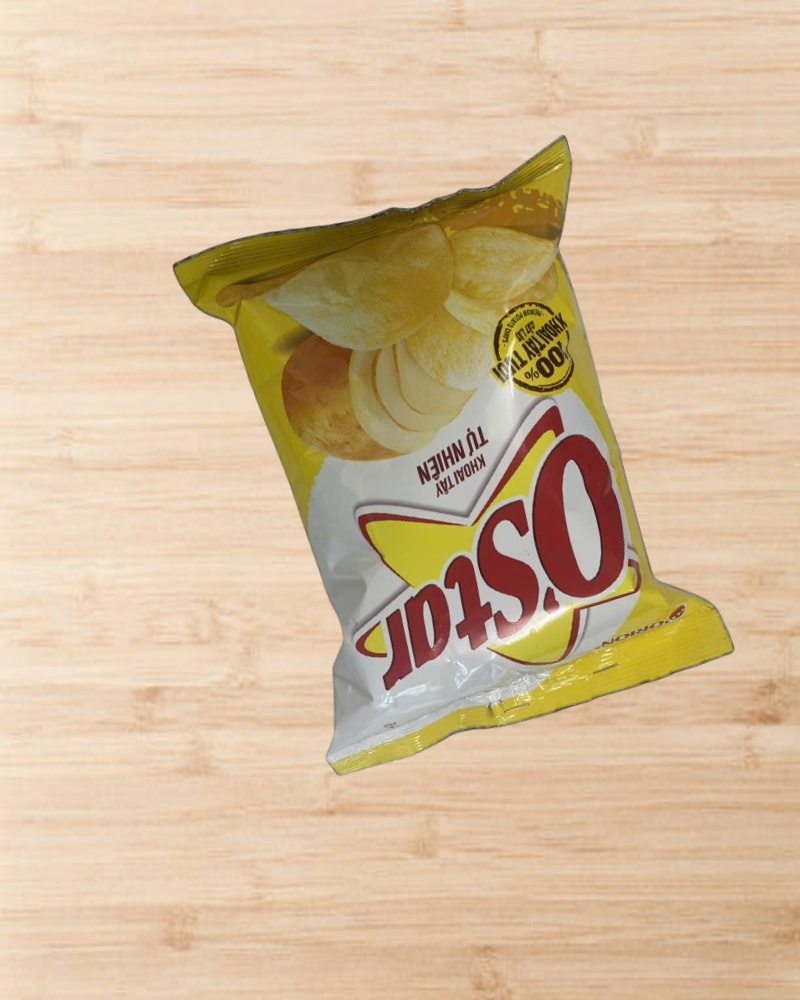Snack cua: (173, 134, 736, 776)
